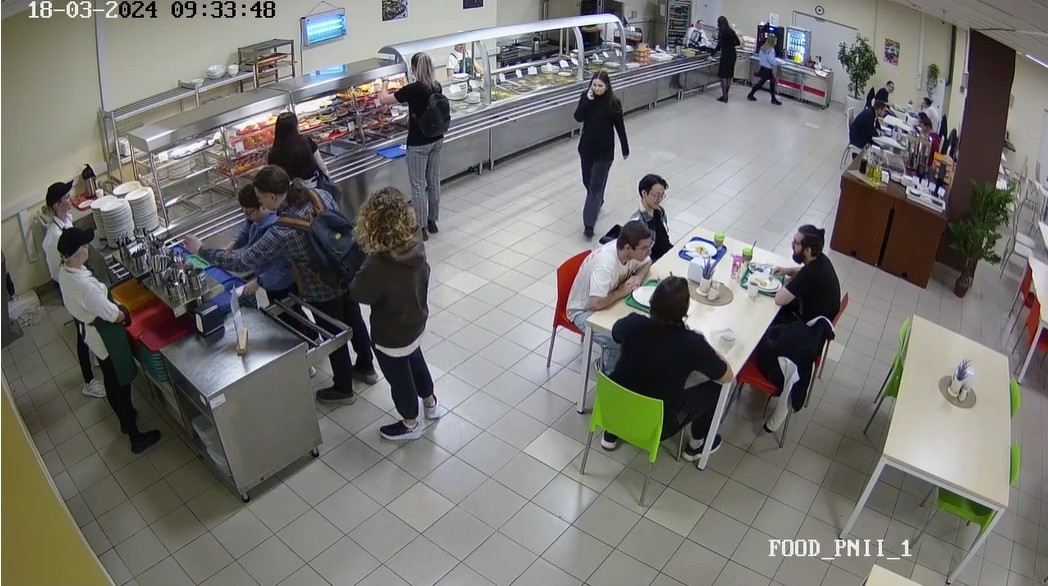Na_Kasse: (707, 12, 740, 111), (750, 30, 782, 102)
Ne_v_Ocheredi: (574, 67, 619, 236)
Personal: (32, 224, 252, 464), (28, 180, 81, 228), (587, 8, 618, 47), (451, 30, 476, 72), (682, 11, 705, 46)
Vybiraet: (357, 200, 438, 436), (239, 167, 346, 301), (379, 52, 452, 200), (220, 187, 268, 286), (259, 110, 325, 174)
Za_Stolom: (623, 262, 709, 427), (559, 225, 655, 319), (779, 221, 844, 333), (627, 172, 672, 222), (849, 96, 887, 145), (914, 113, 940, 145), (871, 76, 900, 99), (916, 88, 937, 112)
